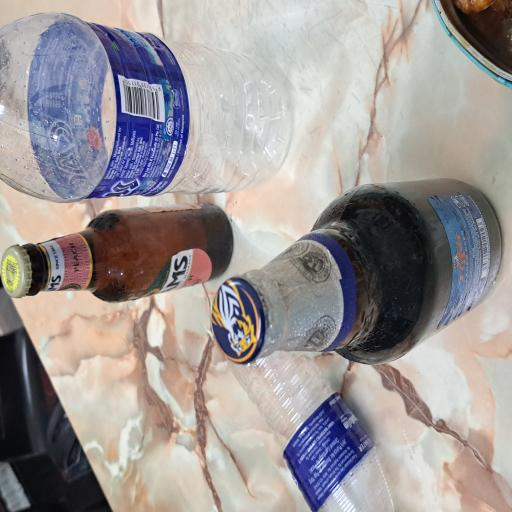glass bottle: (111, 279, 248, 512), (156, 3, 231, 311)
plastic bottle: (236, 0, 374, 390), (0, 308, 119, 512)
